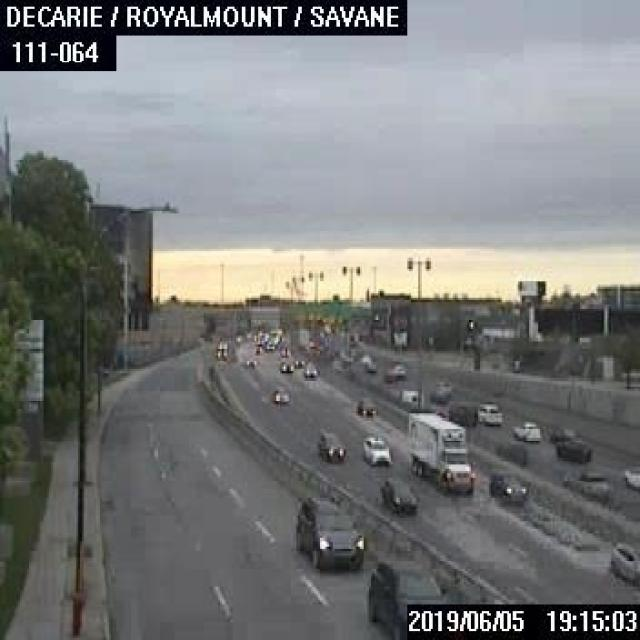vehicle: (364, 556, 442, 638), (291, 491, 367, 569), (407, 412, 475, 491), (606, 538, 638, 586), (486, 464, 528, 500), (378, 476, 416, 512), (563, 472, 611, 496), (360, 433, 393, 467), (314, 429, 346, 464), (553, 437, 591, 462), (511, 418, 542, 440), (447, 402, 476, 424), (477, 401, 501, 424), (269, 382, 289, 404), (355, 396, 377, 416), (622, 464, 638, 489), (401, 388, 422, 405), (301, 360, 318, 378), (428, 387, 446, 403), (434, 380, 449, 394), (391, 362, 405, 377), (279, 358, 293, 371), (293, 354, 304, 365), (244, 355, 256, 365)
